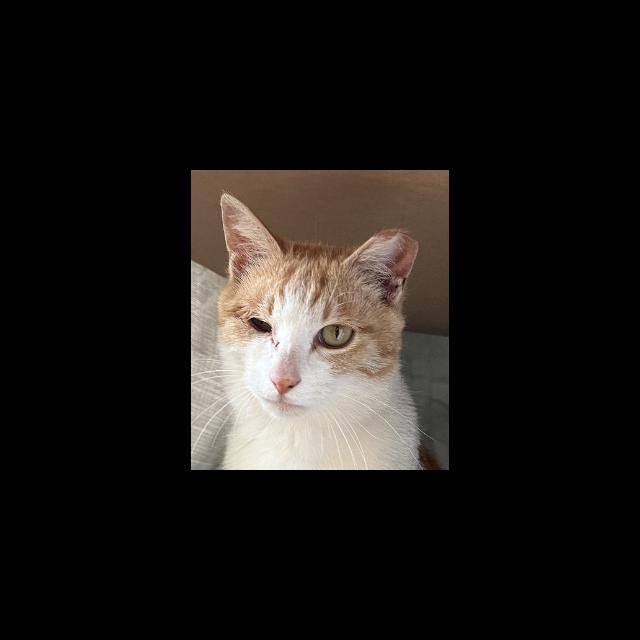animals: (210, 187, 422, 434)
